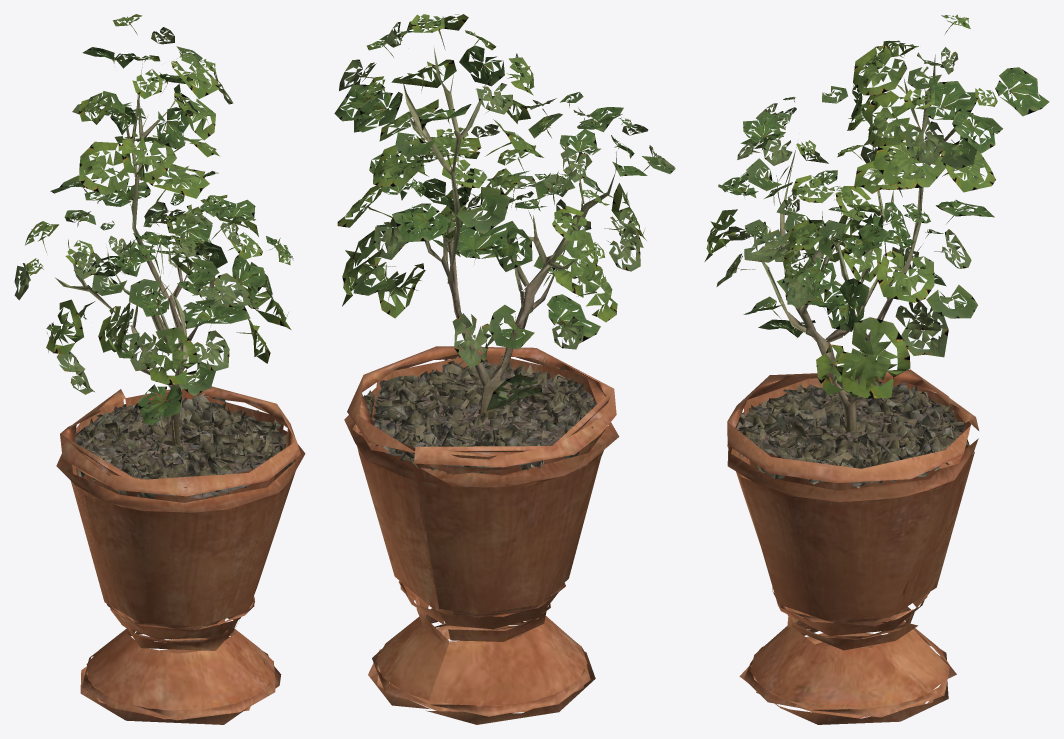
The model's file is potted_plant_01.glb.
The picture shows the model from 3 angles, left to right: view 1: azimuth 30°, elevation 25°; view 2: azimuth 150°, elevation 25°; view 3: azimuth 270°, elevation 25°; orthographic projection. The views are drawn at different scales.
Visible parts, largest first — view 1: potted_plant_01_pot, potted_plant_01_leaves, potted_plant_01_pebbles, potted_plant_01_stem; view 2: potted_plant_01_pot, potted_plant_01_leaves, potted_plant_01_pebbles, potted_plant_01_stem; view 3: potted_plant_01_pot, potted_plant_01_leaves, potted_plant_01_pebbles, potted_plant_01_stem.
Part boxes in pixels (<box>): potted_plant_01_pot: <box>56,383,305,724</box>; potted_plant_01_leaves: <box>14,14,293,425</box>; potted_plant_01_pebbles: <box>74,393,294,500</box>; potted_plant_01_stem: <box>55,61,216,445</box>; potted_plant_01_pot: <box>344,346,619,724</box>; potted_plant_01_leaves: <box>334,14,675,410</box>; potted_plant_01_pebbles: <box>359,356,596,473</box>; potted_plant_01_stem: <box>402,46,616,417</box>; potted_plant_01_pot: <box>727,369,978,724</box>; potted_plant_01_leaves: <box>704,14,1049,398</box>; potted_plant_01_pebbles: <box>736,380,969,488</box>; potted_plant_01_stem: <box>754,54,967,431</box>.
Bounding box in the file's own units: 0.3677 × 0.8361 × 0.3949.
2 materials, 2 textured.
